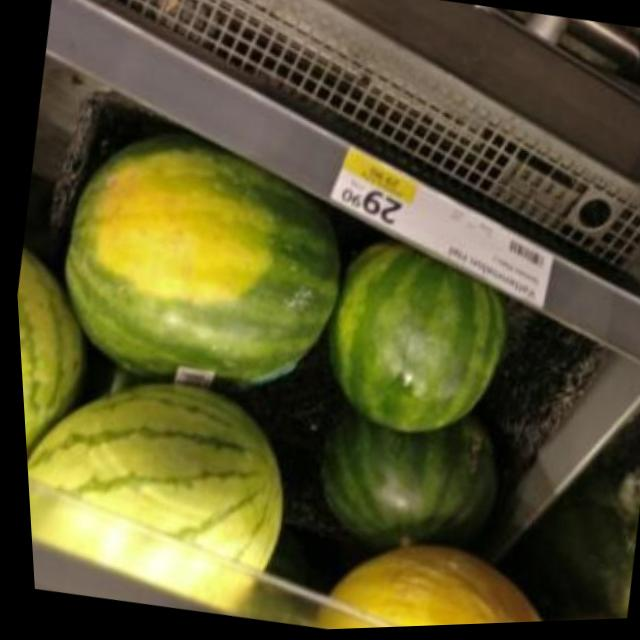Watermelon: (38, 117, 359, 413), (17, 358, 294, 622), (307, 235, 519, 455), (295, 405, 497, 570), (11, 233, 100, 481)
